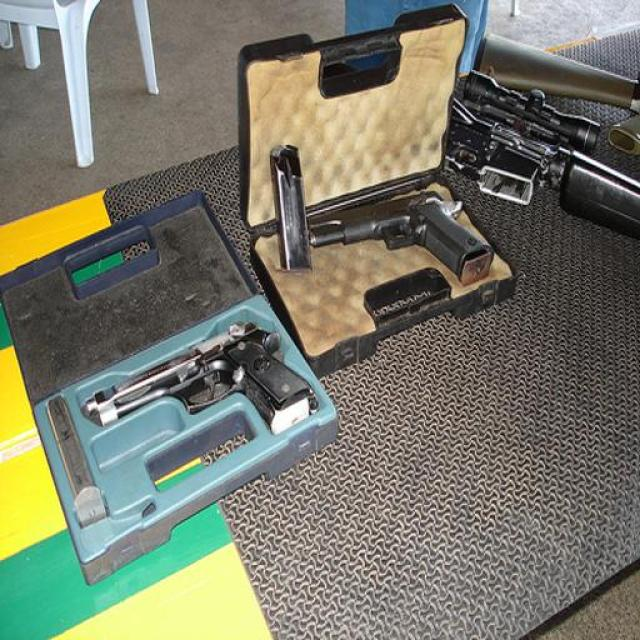pistol: (86, 315, 316, 435), (308, 190, 494, 285)
